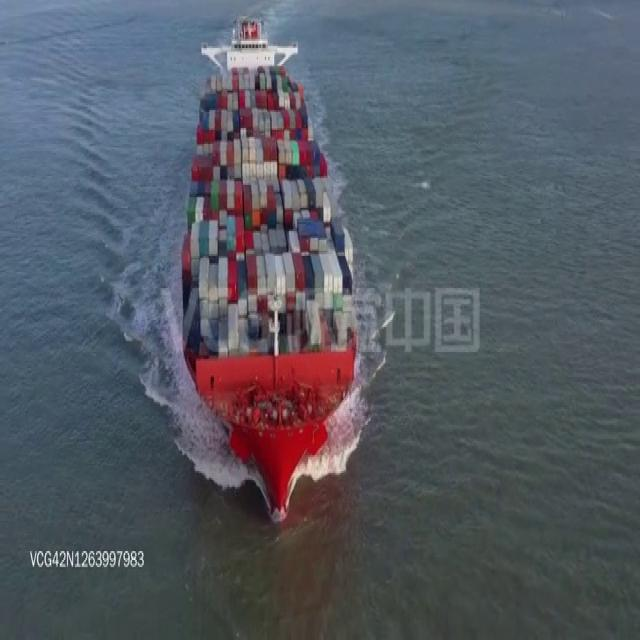cargoship: (181, 12, 357, 524)
